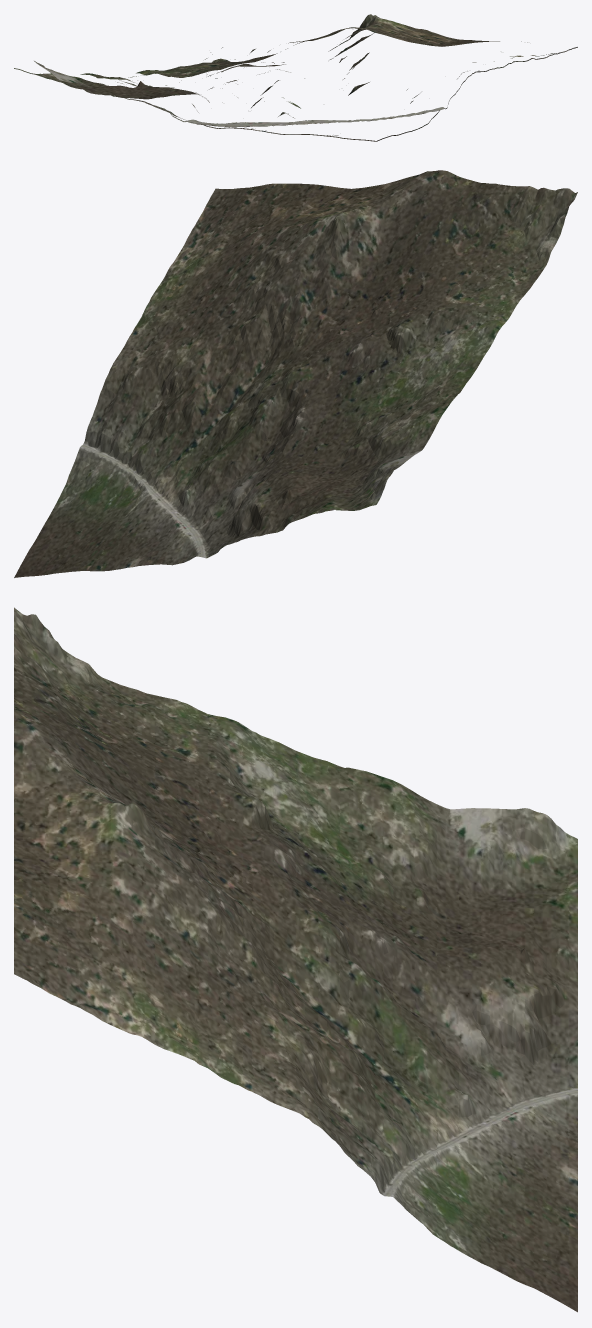
3 views of the same model, one above another, from view 1: azimuth 30°, elevation 25°; view 2: azimuth 150°, elevation 25°; view 3: azimuth 270°, elevation 25° (orthographic). The views are drawn at different scales.
Bounding box in the file's own units: 500 × 434 × 481.
1 material, 1 textured.
